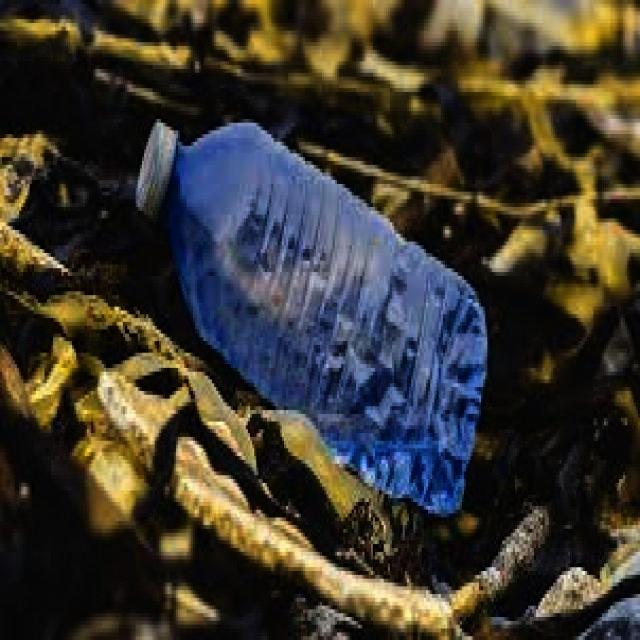bottle: (137, 119, 489, 518)
